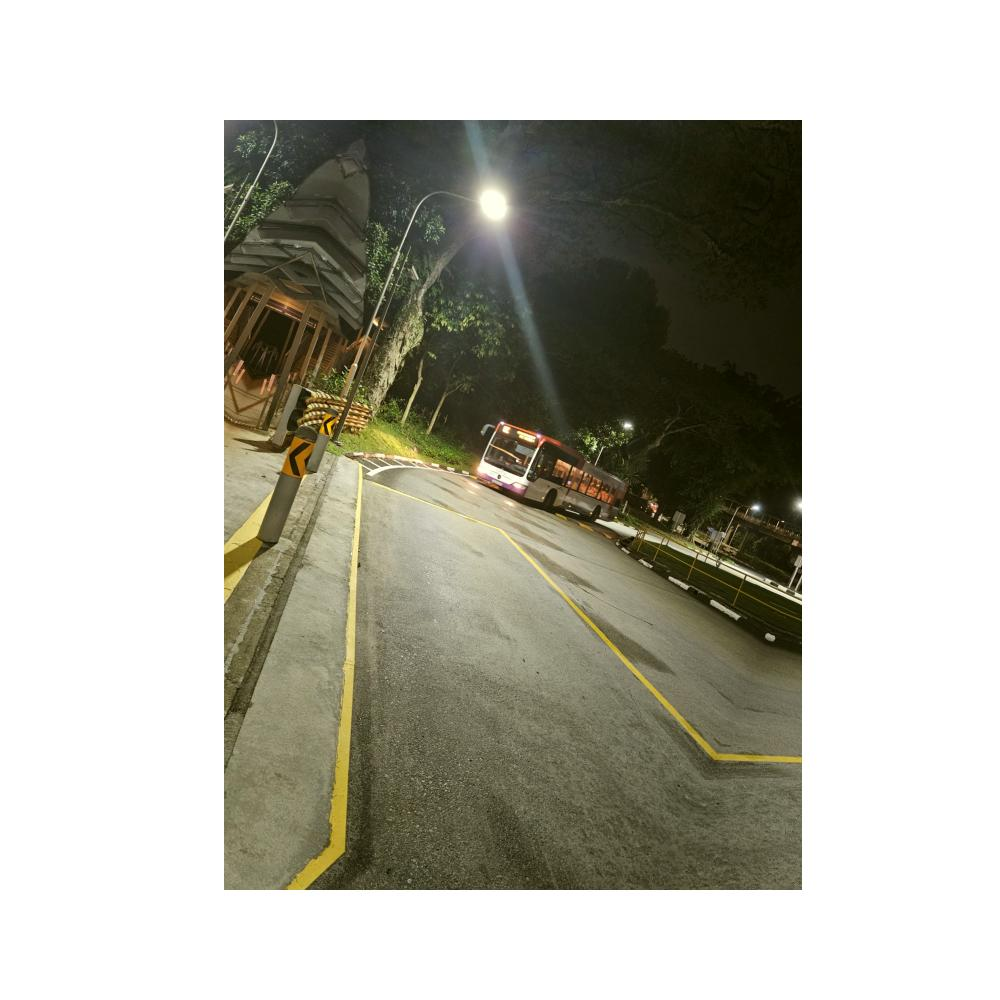bus: (472, 415, 631, 526)
